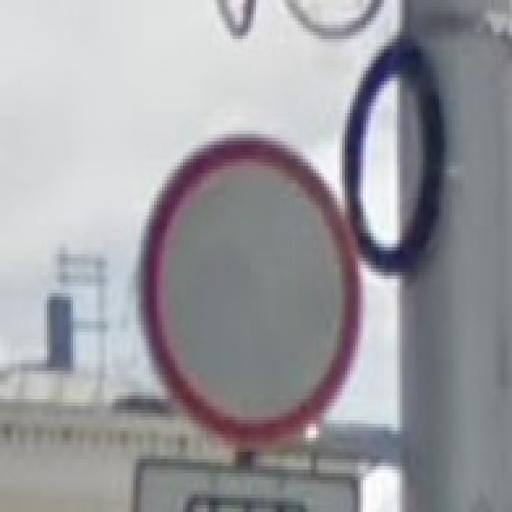traffic_sign: (142, 132, 367, 450)
